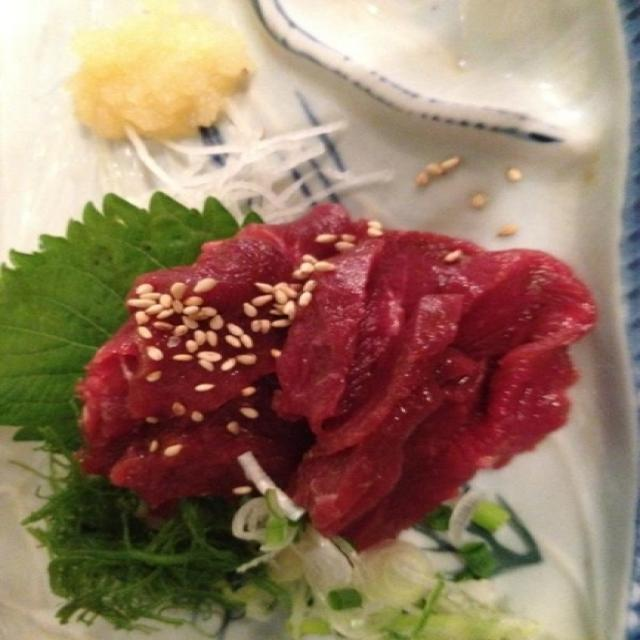刺身生食: (25, 117, 615, 612)
